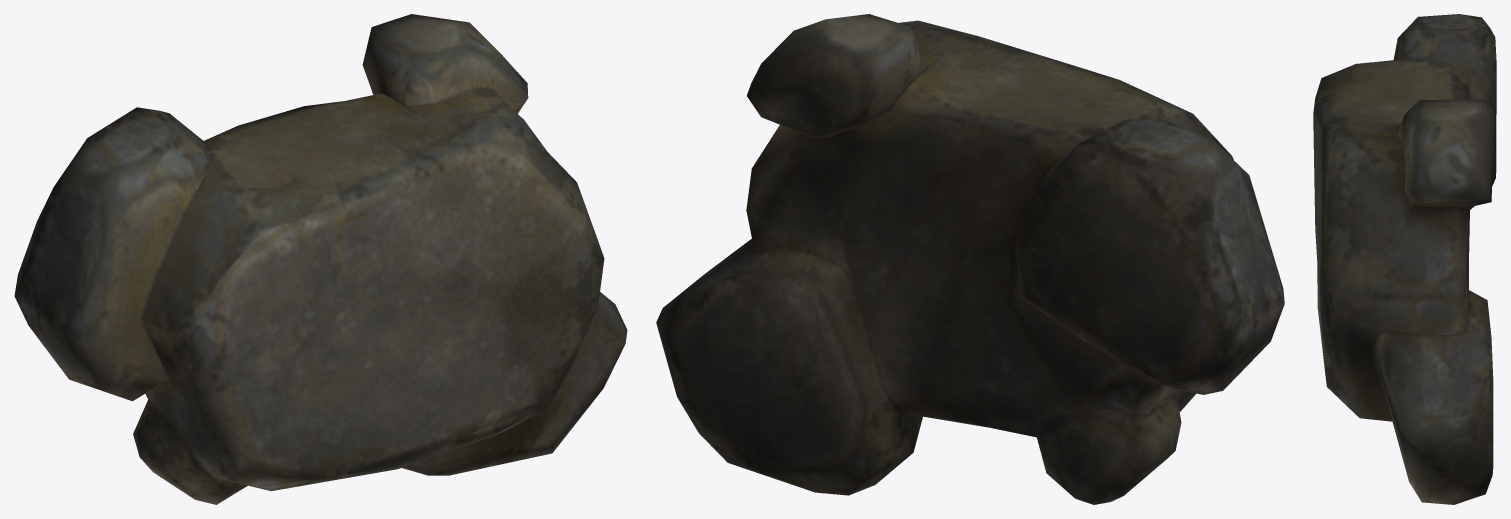
Rendered from rock_detail_01.obj.
3 views of the same model, side by side, from view 1: azimuth 30°, elevation 25°; view 2: azimuth 150°, elevation 25°; view 3: azimuth 270°, elevation 25° (orthographic). The views are drawn at different scales.
Visible parts, largest first — view 1: rock_detail_01; view 2: rock_detail_01; view 3: rock_detail_01.
Boxes of the visible parts, x1,y1,x2,y2 form: rock_detail_01: [14, 14, 627, 504]; rock_detail_01: [656, 14, 1284, 504]; rock_detail_01: [1313, 14, 1496, 504].
Bounding box in the file's own units: 4 × 2.95 × 1.38.
Materials: 1 (1 with a texture image).
